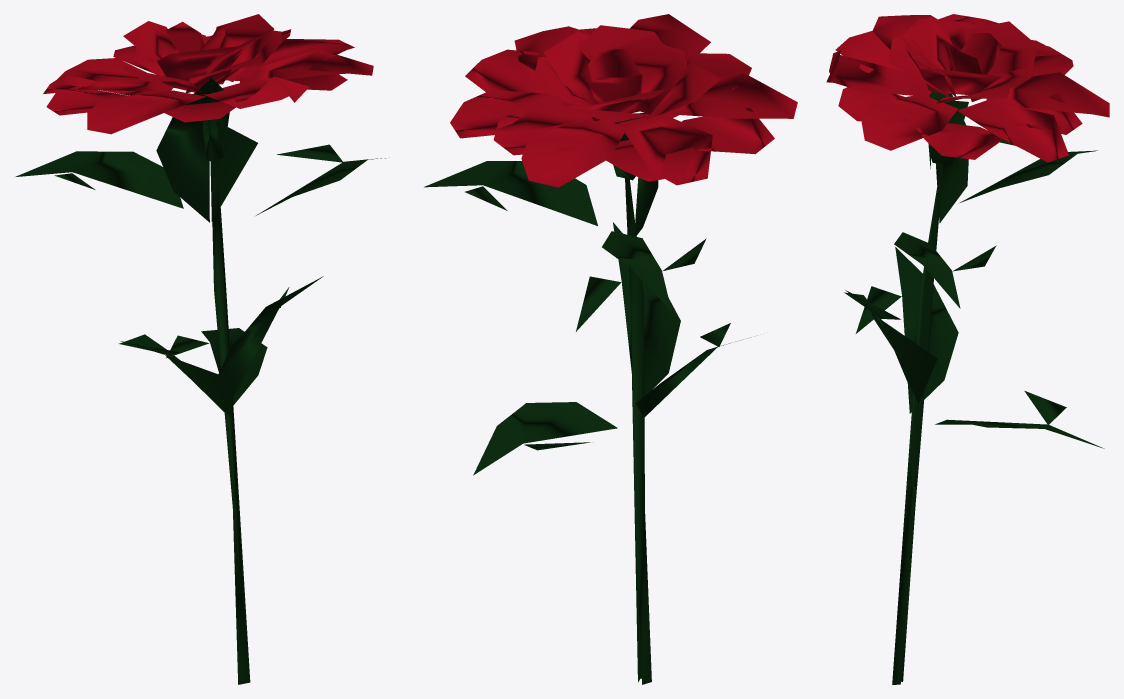
Rendered from flower 2.FBX.
3 renders of one model, left to right at view 1: azimuth 30°, elevation 25°; view 2: azimuth 150°, elevation 25°; view 3: azimuth 270°, elevation 25°, orthographic. The views are drawn at different scales.
Parts seen in each view (by area): view 1: STEM; view 2: STEM; view 3: STEM.
Boxes of the visible parts, left/top/right/bottom form: STEM: left=14, top=14, right=389, bottom=684; STEM: left=424, top=14, right=797, bottom=684; STEM: left=826, top=14, right=1109, bottom=684.
Size of the model in its own units: 18761 by 33670 by 13465.
